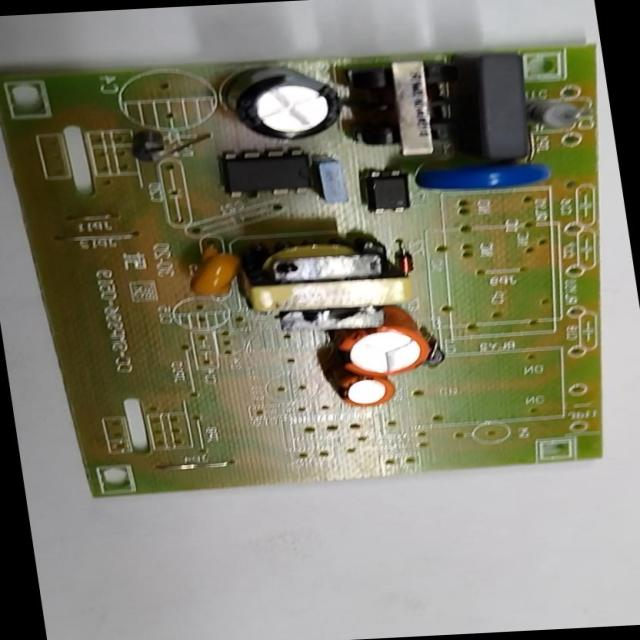Cap1: (339, 324, 431, 378)
Cap2: (334, 375, 394, 406)
Cap3: (231, 61, 344, 139)
MOSFET: (220, 149, 312, 197)
Mov: (417, 164, 554, 192)
Resistor: (530, 98, 583, 130)
Transformer: (346, 58, 458, 155)
